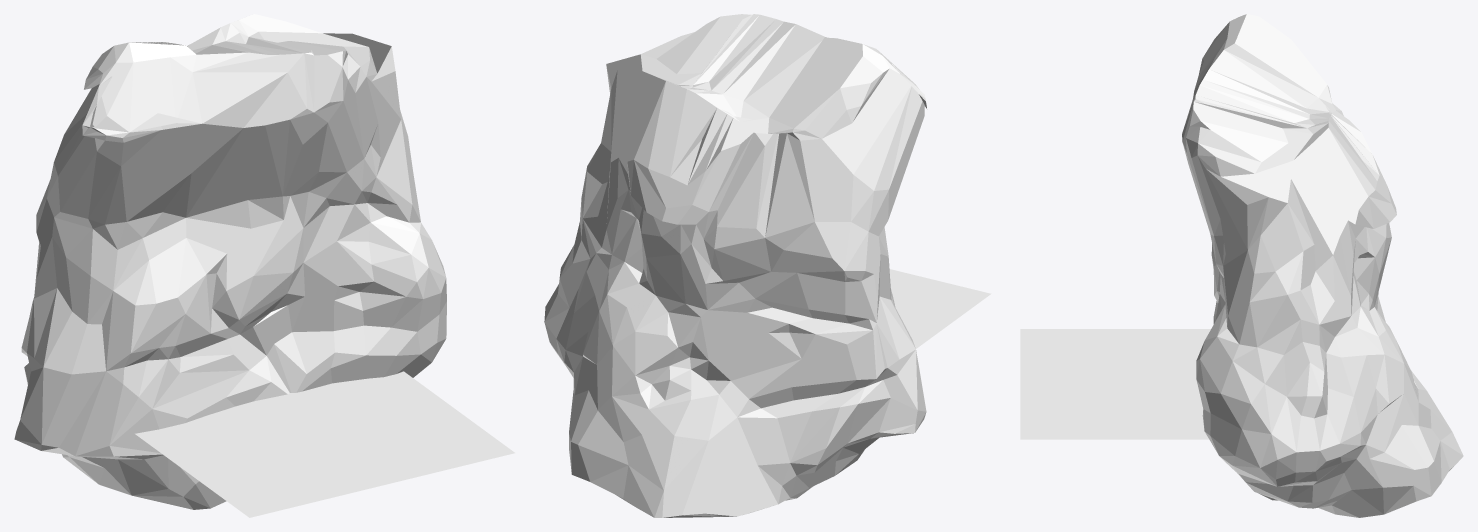
Rendered from ground.cliff.glb.
The picture shows the model from 3 angles, left to right: view 1: azimuth 30°, elevation 25°; view 2: azimuth 150°, elevation 25°; view 3: azimuth 270°, elevation 25°; orthographic projection. The views are drawn at different scales.
Visible parts, largest first — view 1: cliff, cliffground; view 2: cliff, cliffground; view 3: cliff, cliffground.
Part boxes in pixels (left/top/right/bottom): cliff: left=14, top=14, right=446, bottom=509; cliffground: left=135, top=371, right=514, bottom=517; cliff: left=544, top=14, right=926, bottom=517; cliffground: left=889, top=269, right=991, bottom=348; cliff: left=1182, top=14, right=1463, bottom=517; cliffground: left=1020, top=329, right=1210, bottom=439.
Bounding box in the file's own units: 6.26 × 7 × 6.77.
Materials: 2 (1 with a texture image).
